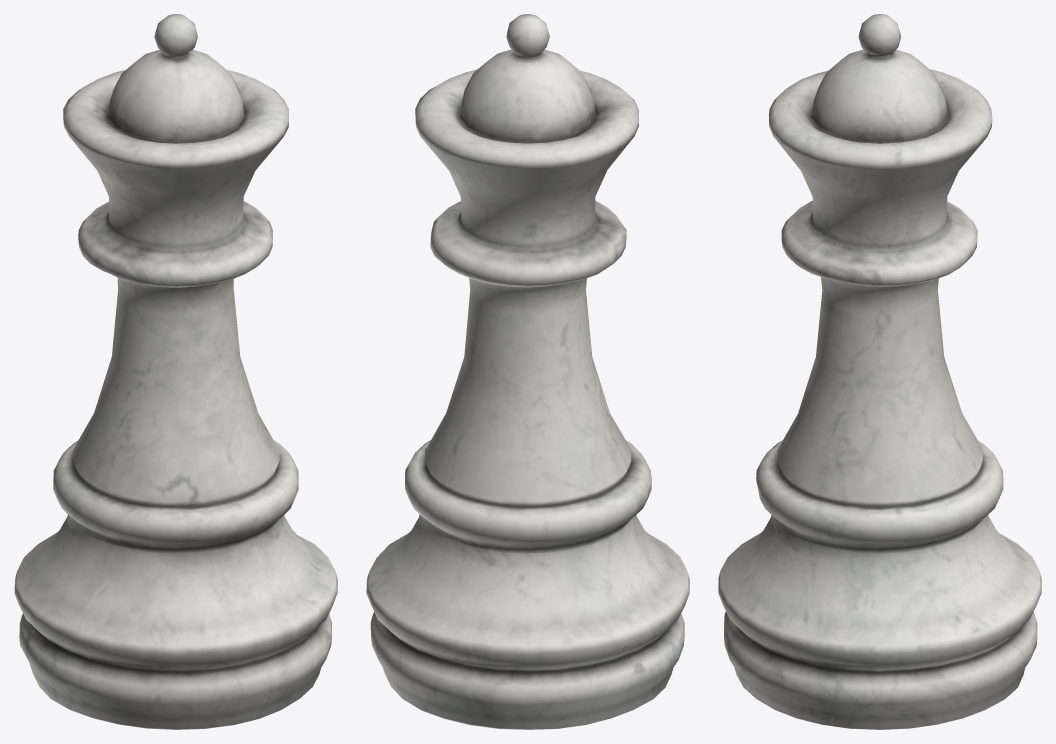
Rendered from queen.gltf.
3 renders of one model, left to right at view 1: azimuth 30°, elevation 25°; view 2: azimuth 150°, elevation 25°; view 3: azimuth 270°, elevation 25°, orthographic.
Visible parts, largest first — view 1: queen; view 2: queen; view 3: queen.
Part boxes in pixels (x1,y1,x2,y2): queen: [14, 14, 337, 729]; queen: [366, 14, 689, 729]; queen: [718, 14, 1041, 729].
Bounding box in the file's own units: 0.0408 × 0.0907 × 0.0406.
1 material, 1 textured.
